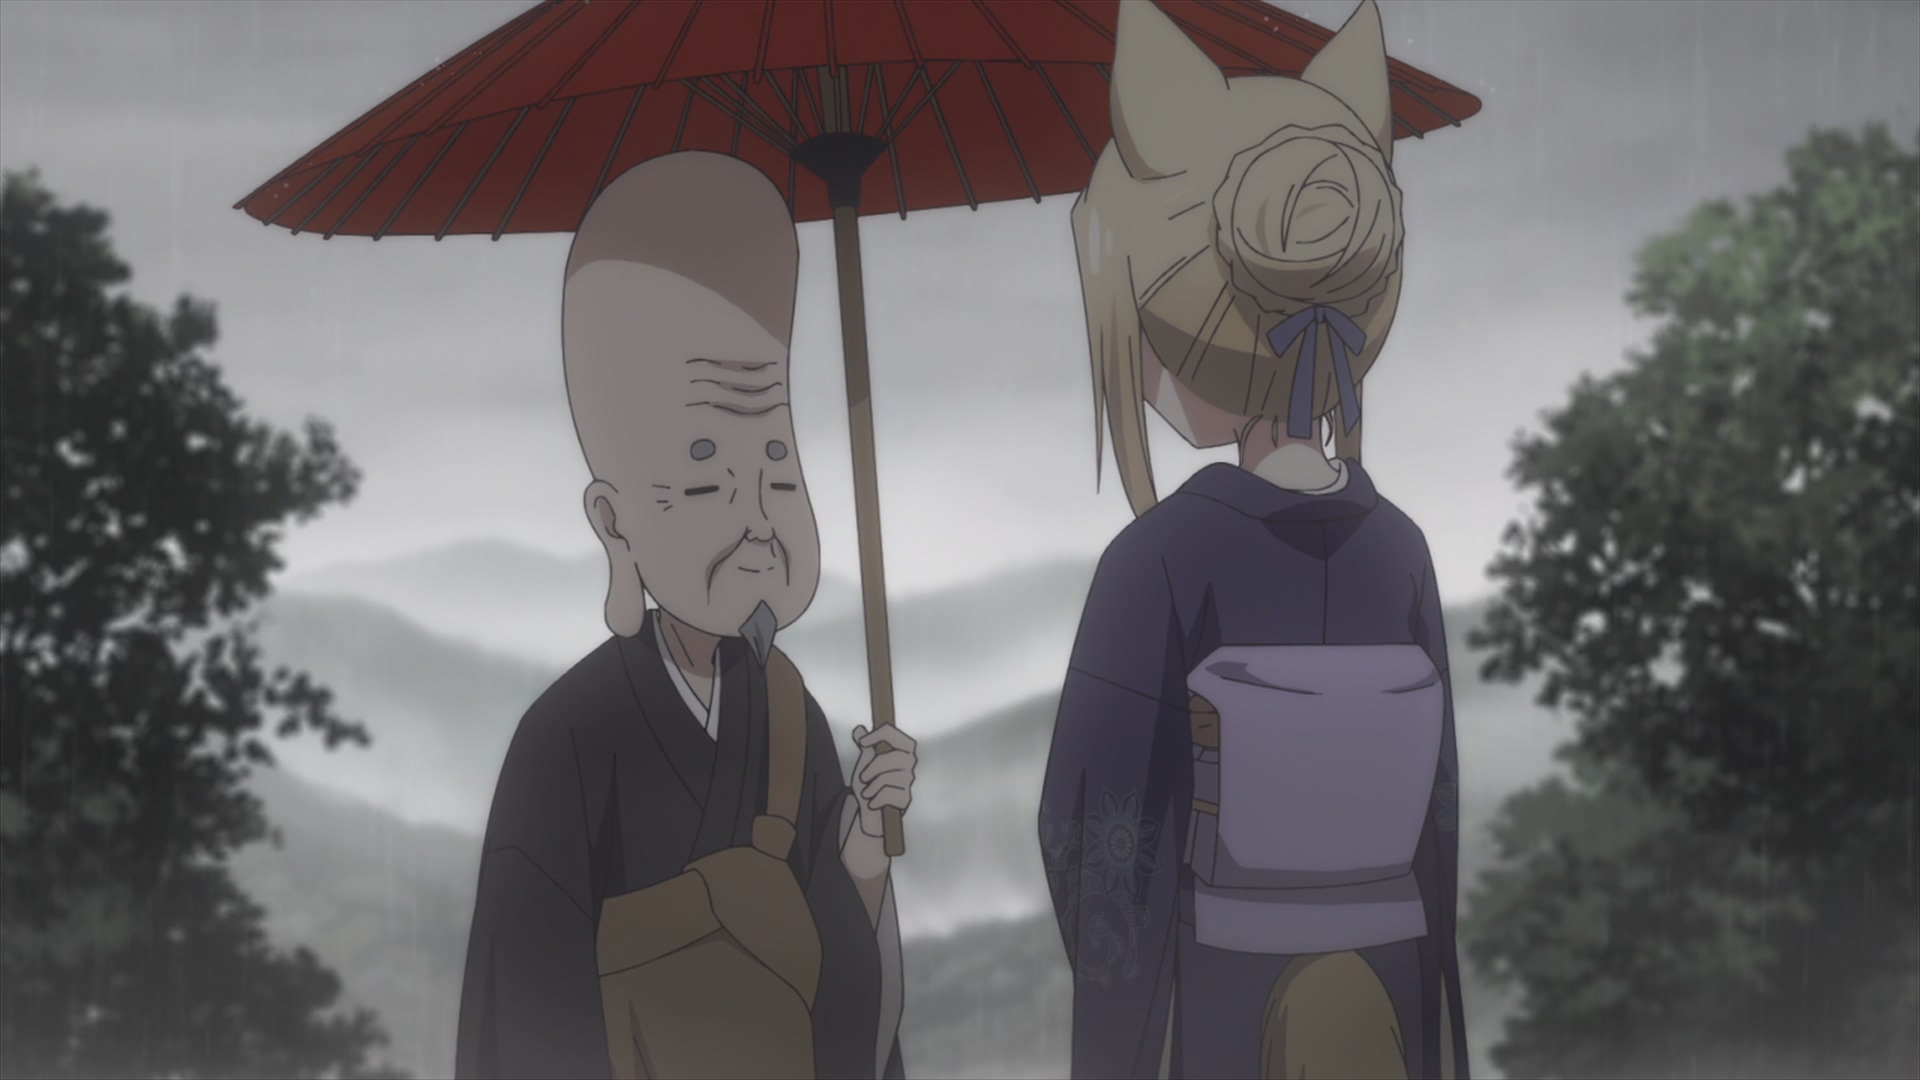其他: (452, 153, 916, 1080)
桐: (1036, 1, 1472, 1080)
